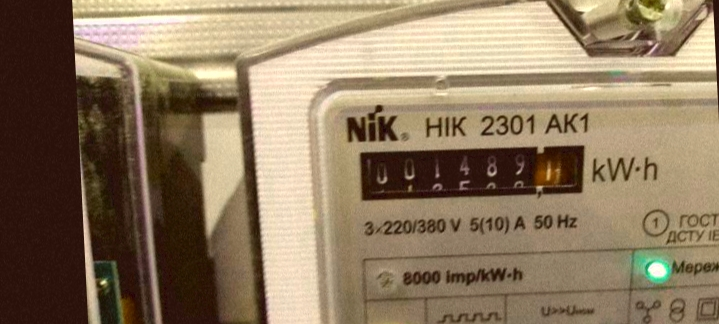0: (399, 154, 416, 180), (372, 159, 388, 185)
1: (428, 152, 443, 181), (540, 152, 553, 183)
4: (455, 151, 472, 178)
8: (481, 150, 499, 178)
9: (510, 150, 526, 176)
screen: (342, 129, 602, 217)
